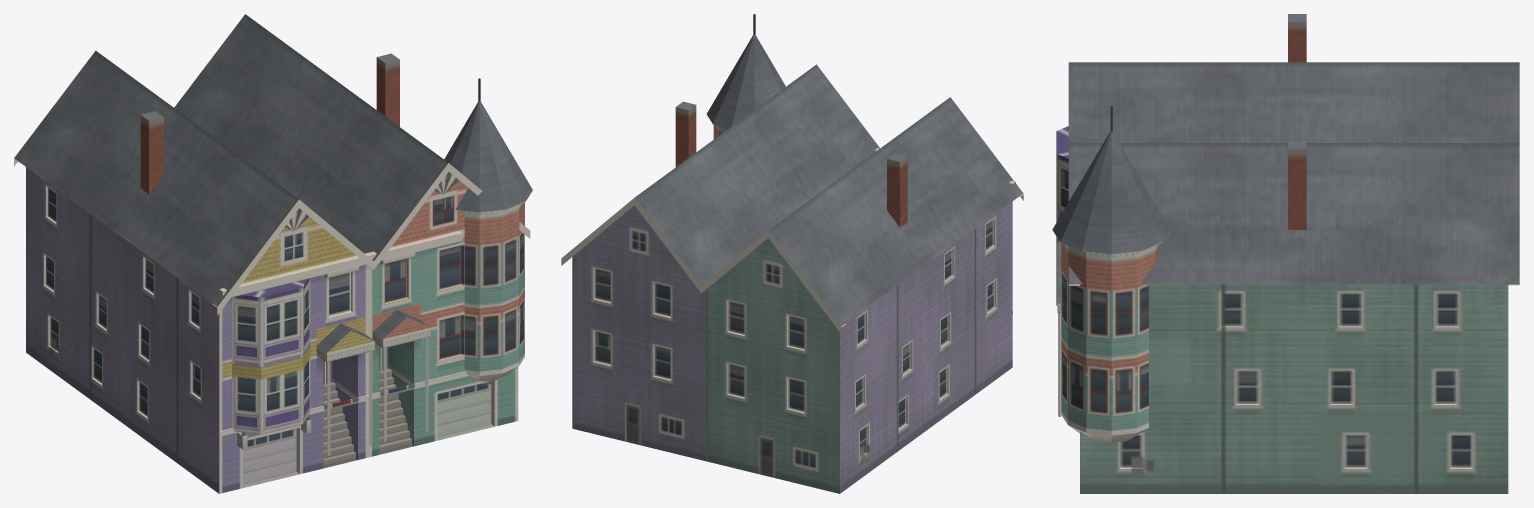
The model's file is sf_victorian_b.glb.
3 views of the same model, side by side, from view 1: azimuth 30°, elevation 25°; view 2: azimuth 150°, elevation 25°; view 3: azimuth 270°, elevation 25° (orthographic). The views are drawn at different scales.
Visible parts, largest first — view 1: sf_victorian_b; view 2: sf_victorian_b; view 3: sf_victorian_b.
Part boxes in pixels (left/top/right/bottom): sf_victorian_b: left=14, top=14, right=532, bottom=493; sf_victorian_b: left=561, top=14, right=1023, bottom=493; sf_victorian_b: left=1052, top=14, right=1519, bottom=493.
Size of the model in its own units: 16.65 by 16.4 by 18.55.
1 material, 1 textured.
